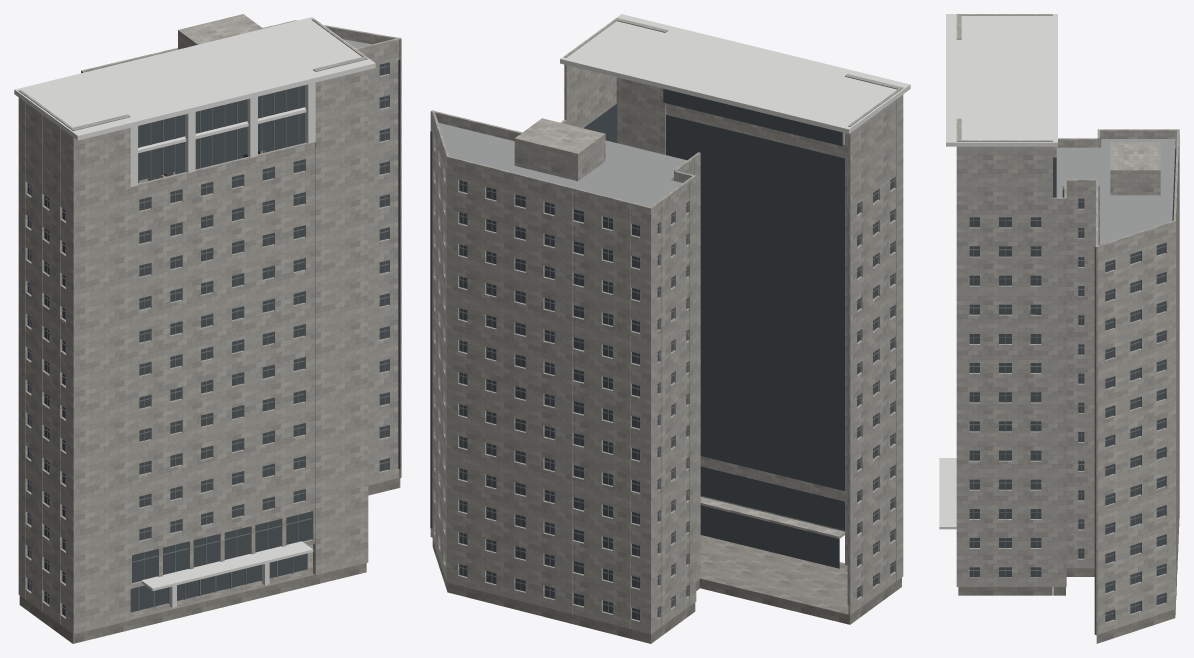
3 renders of one model, left to right at view 1: azimuth 30°, elevation 25°; view 2: azimuth 150°, elevation 25°; view 3: azimuth 270°, elevation 25°, orthographic. The views are drawn at different scales.
Visible parts, largest first — view 1: millennium__tile, millennium__glass, millennium__white, millennium__frame, millennium__base; view 2: millennium__tile, millennium__glass, millennium__white, millennium__base, millennium__roof, millennium__frame; view 3: millennium__tile, millennium__white, millennium__glass, millennium__roof, millennium__frame, millennium__base.
Boxes of the visible parts, bbox=[...] form: millennium__tile: bbox=[18, 14, 401, 634]; millennium__glass: bbox=[27, 60, 400, 615]; millennium__white: bbox=[14, 17, 375, 607]; millennium__frame: bbox=[27, 63, 388, 617]; millennium__base: bbox=[19, 478, 400, 643]; millennium__tile: bbox=[430, 18, 903, 634]; millennium__glass: bbox=[430, 89, 893, 620]; millennium__white: bbox=[560, 14, 910, 144]; millennium__base: bbox=[432, 535, 901, 643]; millennium__roof: bbox=[438, 122, 686, 206]; millennium__frame: bbox=[459, 105, 894, 620]; millennium__tile: bbox=[956, 14, 1179, 635]; millennium__white: bbox=[939, 14, 1057, 529]; millennium__glass: bbox=[969, 148, 1176, 622]; millennium__roof: bbox=[1056, 139, 1175, 244]; millennium__frame: bbox=[969, 198, 1165, 621]; millennium__base: bbox=[958, 568, 1175, 643].
Size of the model in its own units: 49.92 by 60.05 by 28.73.
Materials: 6 (2 with a texture image).
